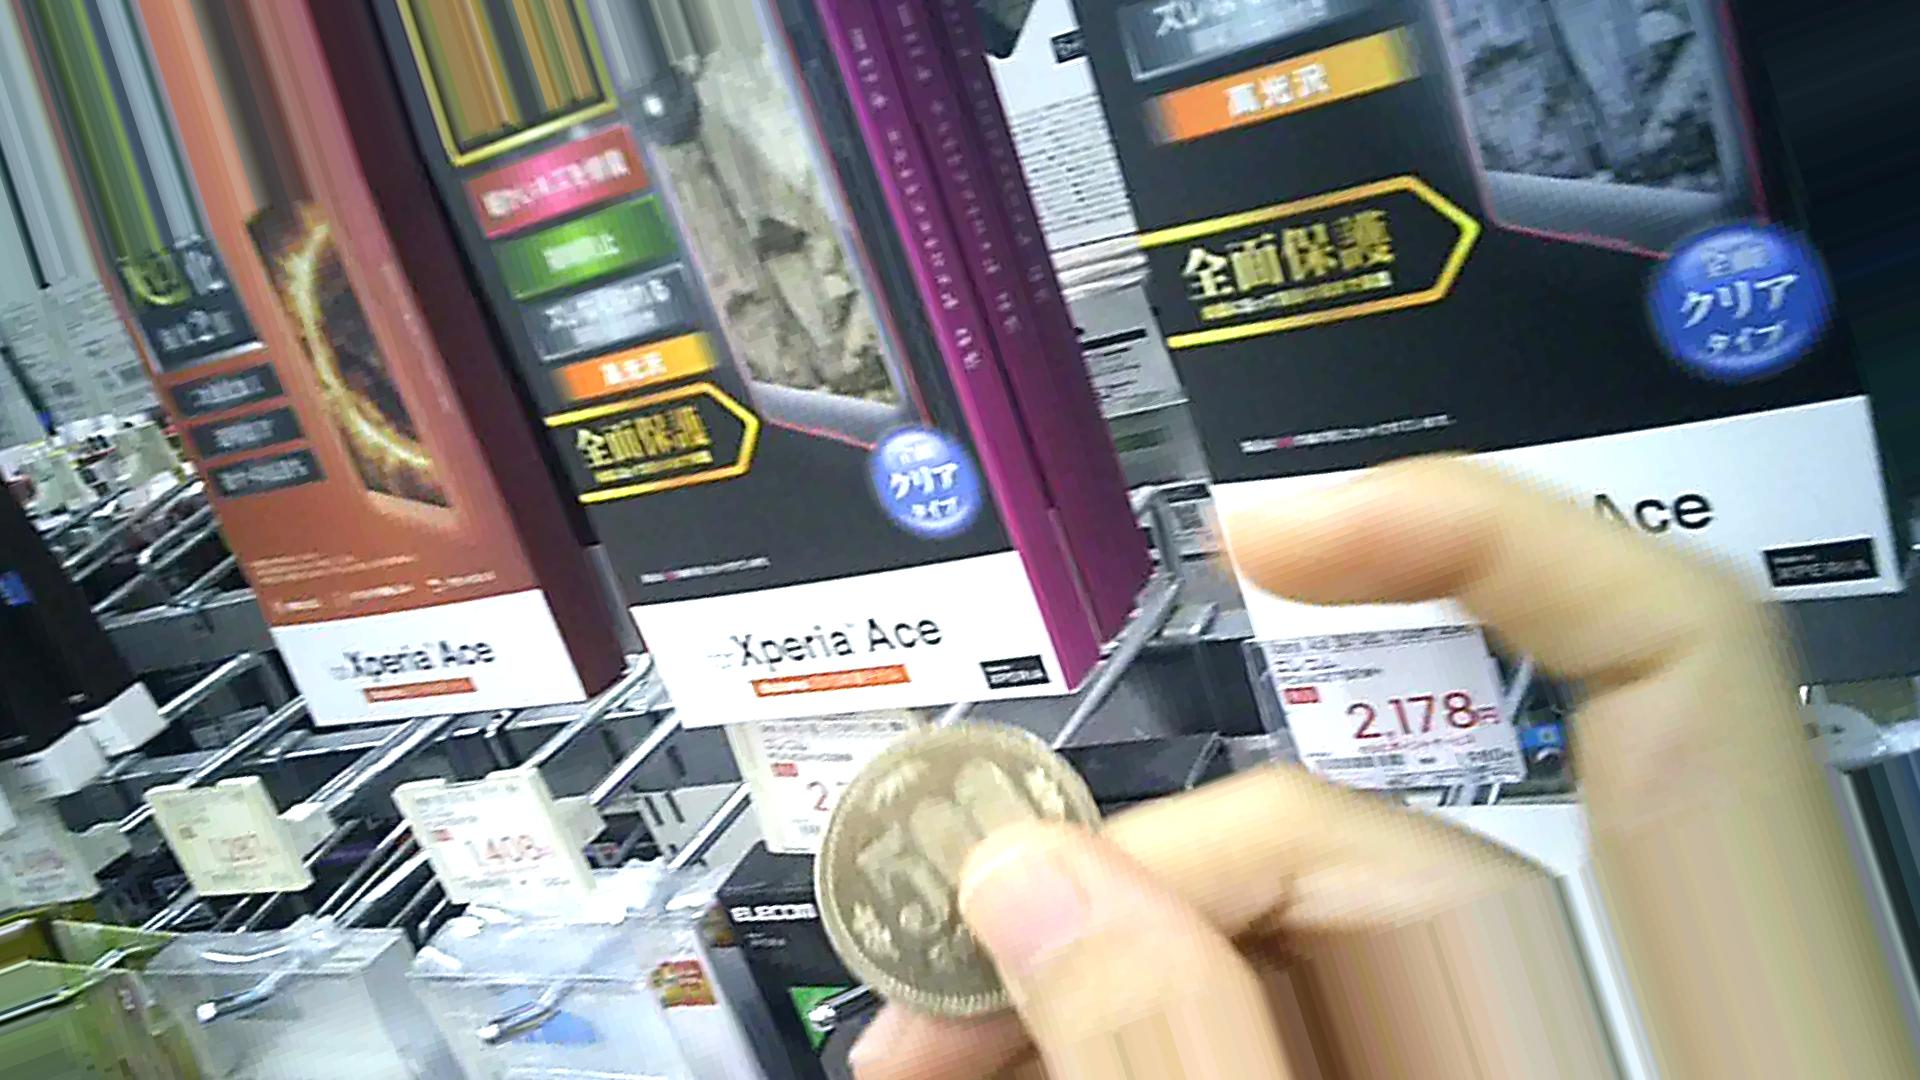500 Yen: (790, 746, 1122, 1021)
